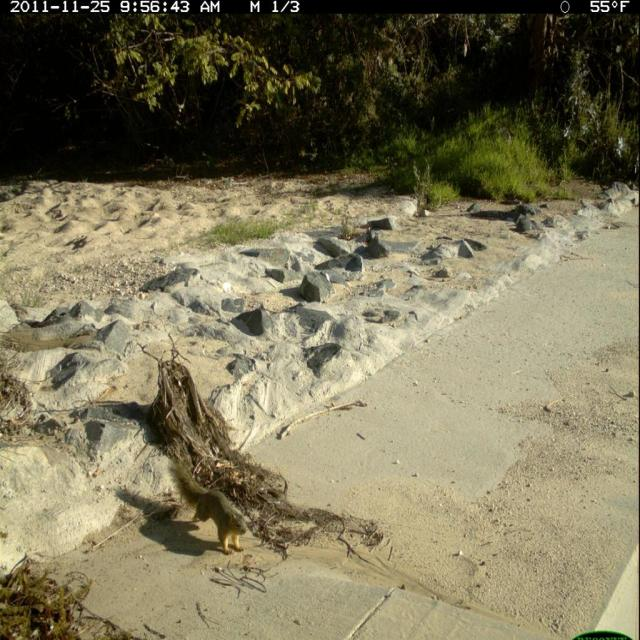squirrel: (165, 446, 254, 561)
